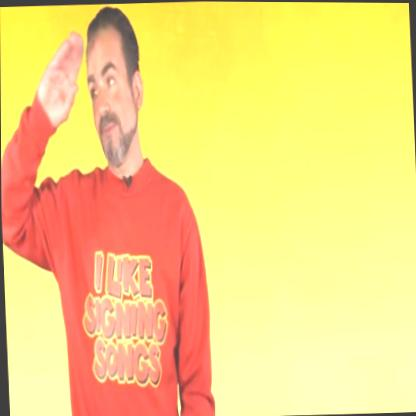Hello: (2, 2, 147, 216)
